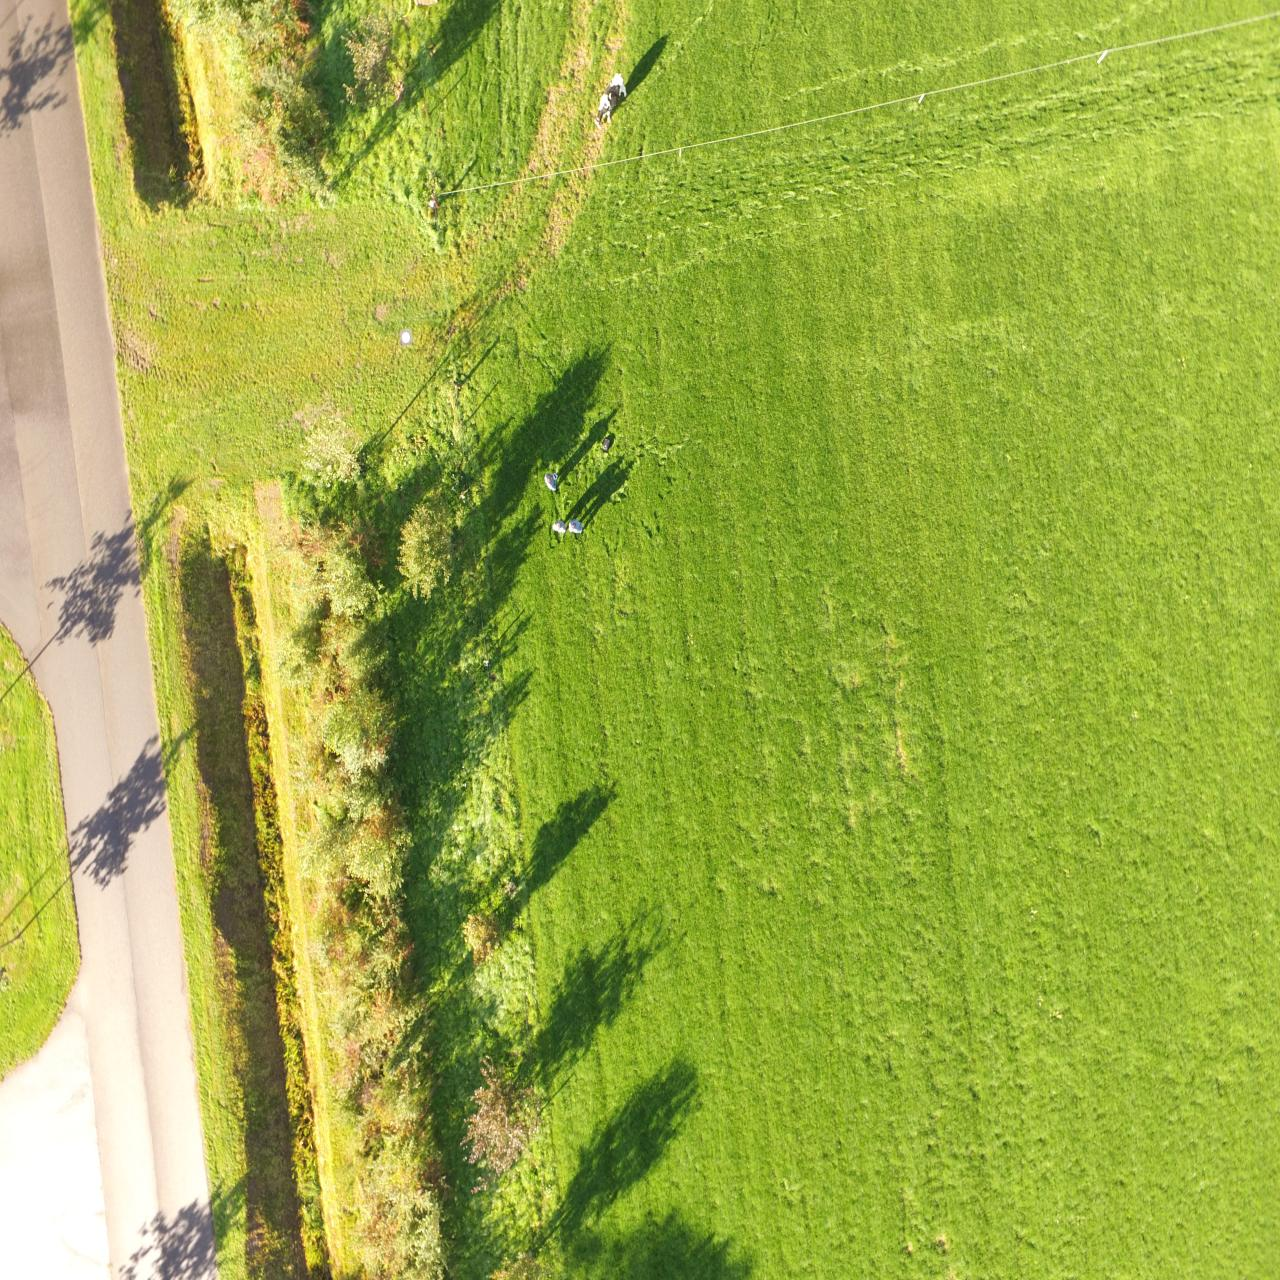cow: (588, 73, 629, 131)
